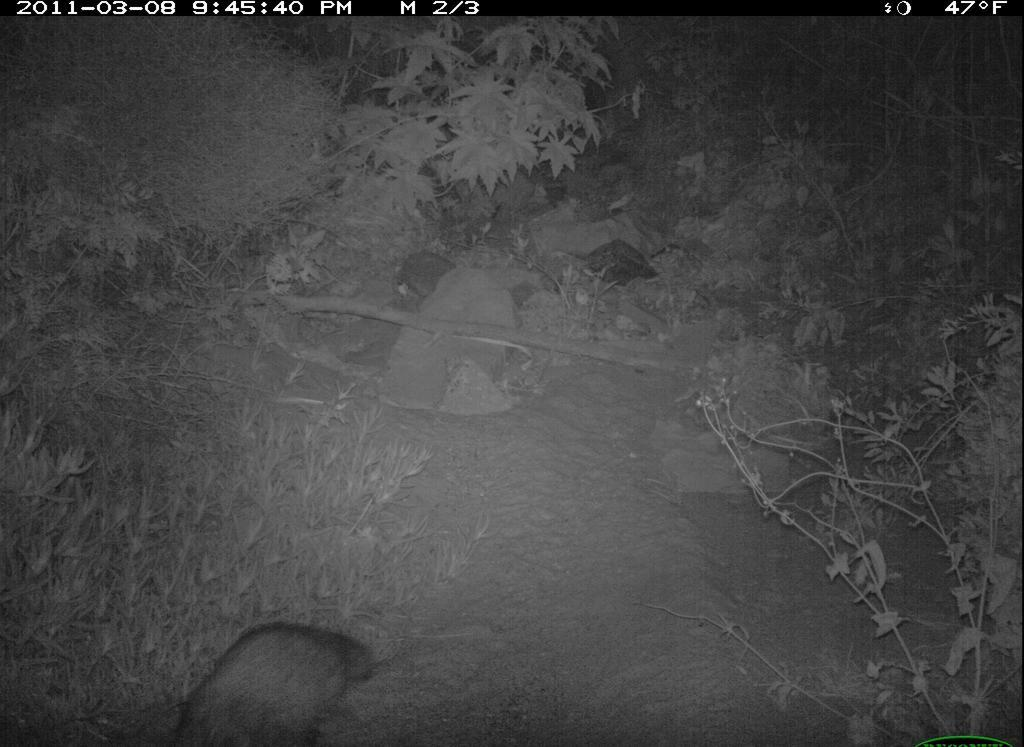raccoon: (157, 614, 405, 744)
